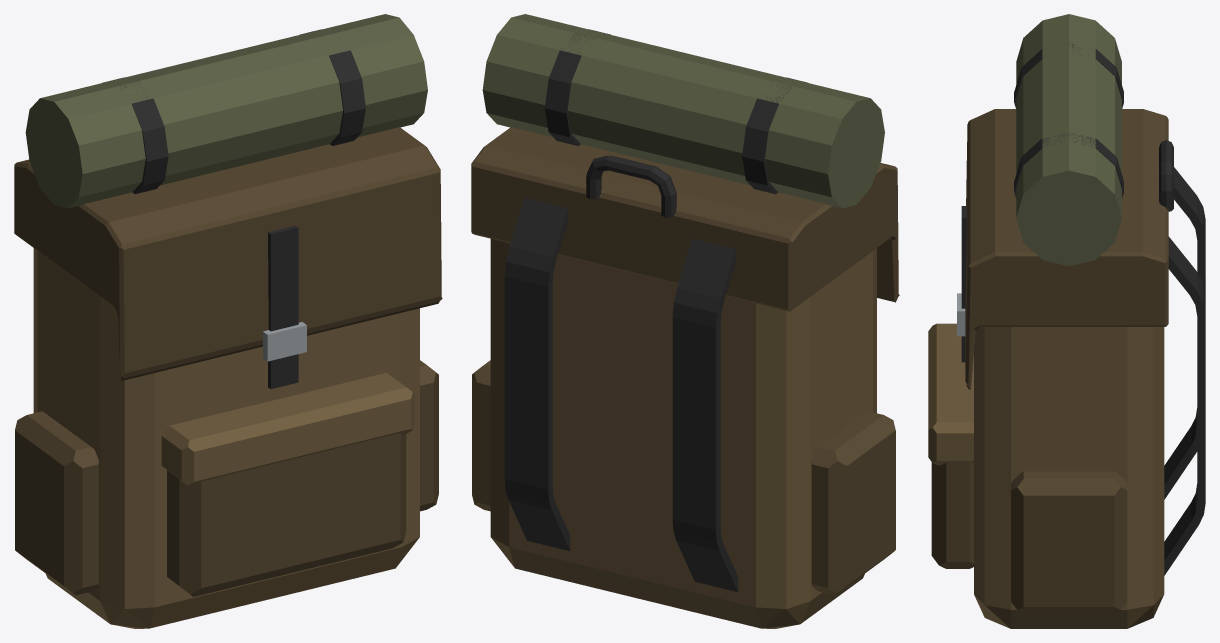
Rendered from sac_a_dos.glb.
3 views of the same model, side by side, from view 1: azimuth 30°, elevation 25°; view 2: azimuth 150°, elevation 25°; view 3: azimuth 270°, elevation 25° (orthographic). The views are drawn at different scales.
Visible parts, largest first — view 1: flap, body, bedroll, pocket, pocket_flap, side_l, flap_strap, side_r, roll_strap_l, roll_strap_r, buckle; view 2: body, bedroll, flap, shoulder_l, shoulder_r, side_l, side_r, roll_strap_r, roll_strap_l, handle; view 3: body, flap, bedroll, side_r, pocket_flap, pocket, shoulder_r, shoulder_l, handle, roll_strap_r, roll_strap_l, flap_strap.
Part boxes in pixels (box(x1,y1,x2,y2)): flap: box(14, 127, 442, 380); body: box(33, 248, 419, 628); bedroll: box(25, 14, 427, 208); pocket: box(167, 433, 406, 596); pocket_flap: box(161, 373, 414, 486); side_l: box(15, 411, 99, 595); flap_strap: box(268, 225, 298, 389); side_r: box(420, 360, 438, 511); roll_strap_l: box(102, 77, 168, 194); roll_strap_r: box(300, 29, 365, 145); buckle: box(263, 322, 306, 361); body: box(490, 239, 876, 628); bedroll: box(482, 14, 884, 208); flap: box(471, 127, 899, 311); shoulder_l: box(672, 238, 738, 591); shoulder_r: box(504, 197, 570, 550); side_l: box(811, 411, 895, 595); side_r: box(472, 360, 490, 511); roll_strap_r: box(544, 29, 610, 145); roll_strap_l: box(742, 77, 807, 194); handle: box(586, 155, 676, 217); body: box(974, 327, 1164, 628); flap: box(965, 109, 1168, 389); bedroll: box(1016, 14, 1121, 266); side_r: box(1011, 471, 1127, 612); pocket_flap: box(928, 323, 973, 465); pocket: box(931, 462, 973, 568); shoulder_r: box(1164, 236, 1205, 575); shoulder_l: box(1164, 167, 1205, 499); handle: box(1159, 140, 1173, 211); roll_strap_r: box(1014, 133, 1123, 198); roll_strap_l: box(1014, 43, 1123, 108); flap_strap: box(961, 206, 966, 362).
Size of the model in its own units: 0.38 by 0.5 by 0.262.
Materials: 5 (5 with a texture image).
